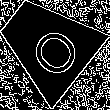O_NW: (14, 11, 79, 77)
